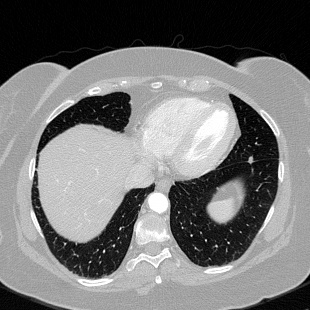PN: (248, 157, 254, 163)
